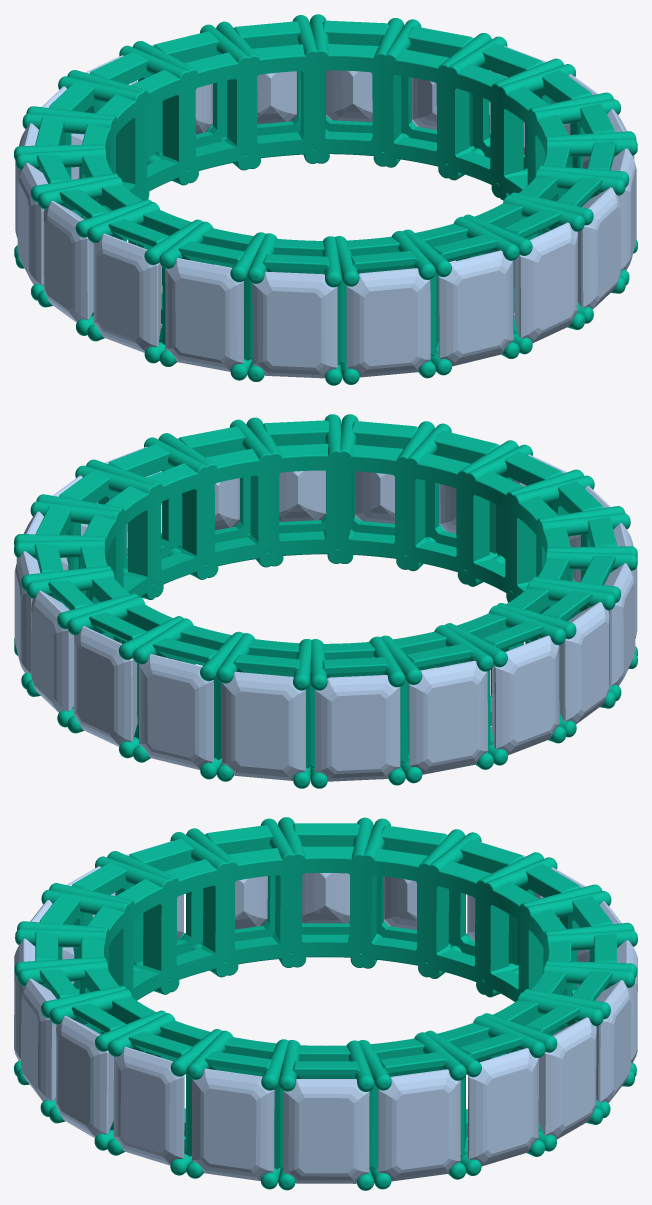
The picture shows the model from 3 angles, top to bottom: view 1: azimuth 30°, elevation 25°; view 2: azimuth 150°, elevation 25°; view 3: azimuth 270°, elevation 25°; orthographic projection.
Parts seen in each view (by area): view 1: Bezel (×40), Diamond_Emerald (×15), Head Prong (×40); view 2: Bezel (×40), Diamond_Emerald (×15), Head Prong (×40); view 3: Bezel (×40), Diamond_Emerald (×14), Head Prong (×40).
Part boxes in pixels (left/top/right/bottom): Bezel (×40): left=35, top=20, right=616, bottom=364; Diamond_Emerald (×15): left=15, top=37, right=636, bottom=378; Head Prong (×40): left=14, top=14, right=637, bottom=287; Bezel (×40): left=34, top=420, right=616, bottom=768; Diamond_Emerald (×15): left=14, top=438, right=637, bottom=781; Head Prong (×40): left=14, top=414, right=637, bottom=690; Bezel (×40): left=35, top=823, right=616, bottom=1169; Diamond_Emerald (×14): left=14, top=834, right=637, bottom=1183; Head Prong (×40): left=14, top=817, right=637, bottom=1091.
Size of the model in its own units: 2.8 by 0.5801 by 2.8.
